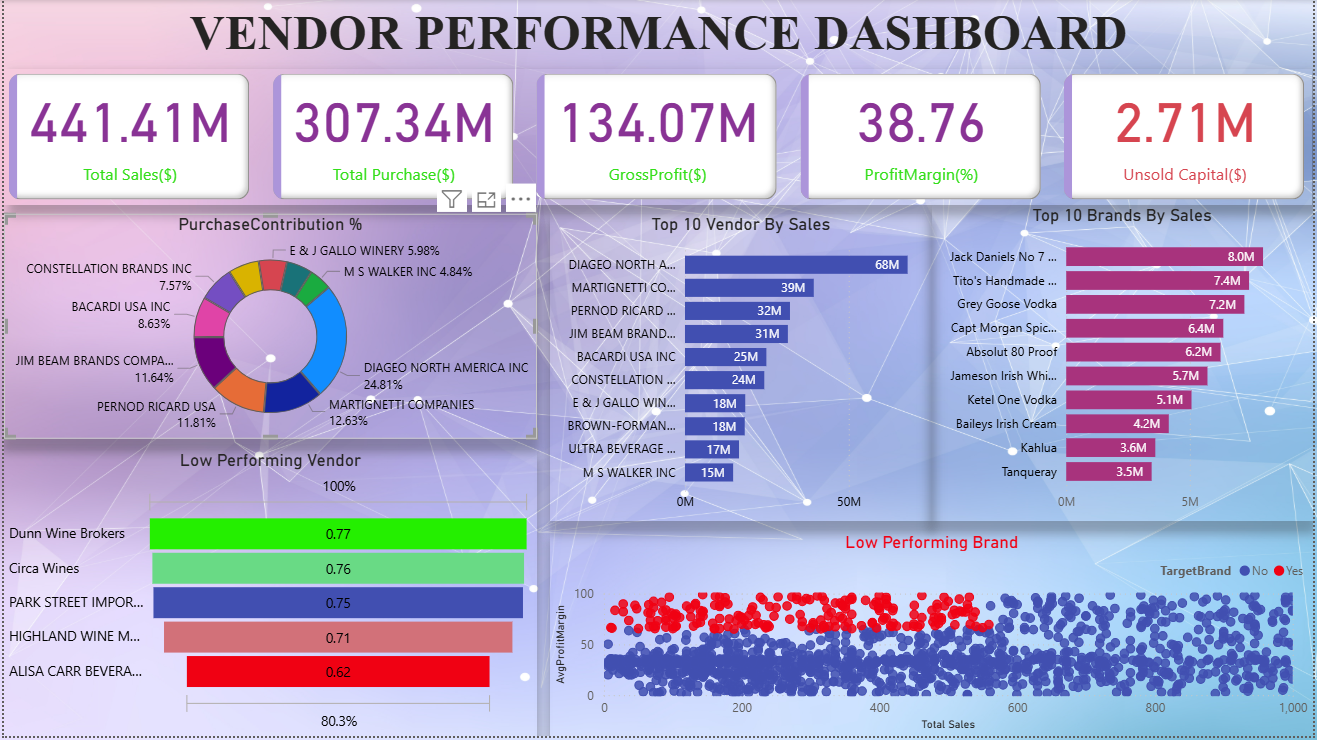

This screenshot's page, from the dashboard's own definition file:
{"tool":"powerbi","page":{"name":"Page 1","canvas":[1280,720],"ordinal":0},"visuals":[{"type":"textbox","box":[0,0,1280.3,67.2],"z":0},{"type":"cardVisual","fields":{"Data":["Final_Dashbord.TotalSalesDollars","Final_Dashbord.TotalPurchaseDollars","Final_Dashbord.GrossProfit","Final_Dashbord.ProfitMargin","Final_Dashbord.UnsoldInventoryValue"]},"box":[0,67.3,1280.3,133.3],"z":1000},{"type":"barChart","title":"Top 10 Vendor By Sales","fields":{"Category":["Final_Dashbord.VendorName"],"Y":["Final_Dashbord.TotalSalesDollars"]},"box":[533.8,208.6,373.2,300.5],"z":2000},{"type":"barChart","title":"Top 10 Brands By Sales","fields":{"Category":["Final_Dashbord.Description"],"Y":["Final_Dashbord.TotalSalesDollars"]},"box":[907,200.3,373.2,308.7],"z":3000},{"type":"donutChart","title":"PurchaseContribution %","fields":{"Category":["PurchaseContribution.VendorName"],"Y":["PurchaseContribution.PurchaseContribution%"]},"box":[0,208.6,521.4,220.9],"z":4000},{"type":"scatterChart","title":"Low Performing Brand","fields":{"Category":["BrandPerformance.Description"],"X":["BrandPerformance.Total Sales"],"Y":["BrandPerformance.AvgProfitMargin"],"Series":["BrandPerformance.TargetBrand"]},"box":[533.8,520.1,746.5,200.3],"z":5000},{"type":"funnel","title":"Low Performing Vendor","fields":{"Category":["LowTurnOverVendor.VendorName"],"Y":["LowTurnOverVendor.AvgStocjTurnOver"]},"box":[0,440.5,521.4,279.9],"z":6000}]}

Visuals, with their boxes in screenshot pixels (x1, y1, x2, y2), scaled from the page's 1280x720 canvas onto the 1317x740 screenshot:
textbox: box(0, 0, 1316, 69)
cardVisual - Final_Dashbord.TotalSalesDollars x Final_Dashbord.TotalPurchaseDollars: box(0, 69, 1316, 206)
"Top 10 Vendor By Sales" barChart: box(549, 214, 933, 523)
"Top 10 Brands By Sales" barChart: box(933, 206, 1316, 523)
"PurchaseContribution %" donutChart: box(0, 214, 536, 441)
"Low Performing Brand" scatterChart: box(549, 535, 1316, 739)
"Low Performing Vendor" funnel: box(0, 453, 536, 739)
